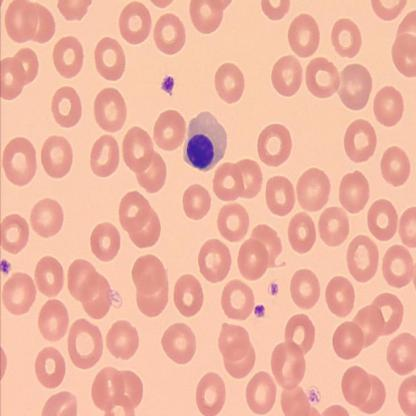NRC: (182, 109, 228, 173)
